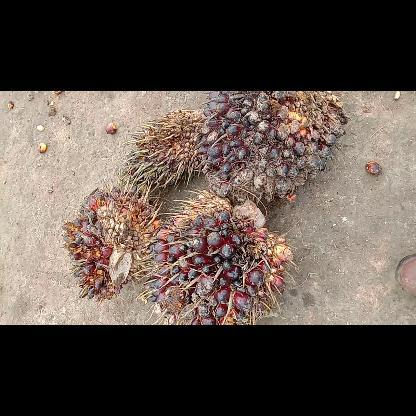Kurang masak: (152, 188, 290, 324), (200, 91, 346, 203)
TBS abnormal: (119, 108, 215, 192)
TBS masak: (60, 188, 158, 300)
